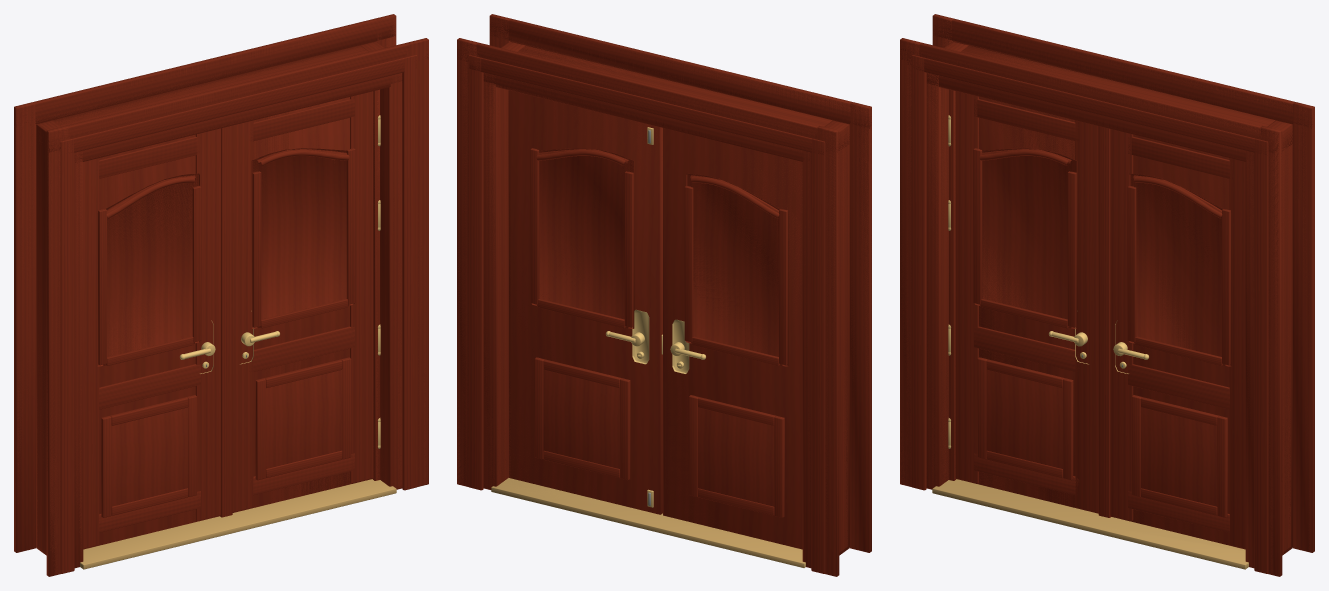
File: door_luxury.glb
3 views of the same model, side by side, from view 1: azimuth 30°, elevation 25°; view 2: azimuth 150°, elevation 25°; view 3: azimuth 330°, elevation 25° (orthographic).
Visible parts, largest first — view 1: MESH_LOD0_StaticFrameAssembly, MESH_LOD2_StaticFrameAssembly, MESH_LOD1_StaticFrameAssembly, MESH_LOD2_Right_UpperPanel_Exterior_CurvedField, MESH_LOD2_Left_UpperPanel_Exterior_CurvedField, MESH_LOD0_Left_ExteriorLatchStile, MESH_LOD0_Right_ExteriorHingeStile, MESH_LOD0_Left_UpperPanel_Exterior_CurvedField, MESH_LOD0_Right_ExteriorLatchStile, MESH_LOD1_Left_Slab, MESH_LOD0_Left_LowerPanel_Exterior_Field, MESH_LOD0_Right_LowerPanel_Exterior_Field (+29 smaller); view 2: MESH_LOD0_StaticFrameAssembly, MESH_LOD2_StaticFrameAssembly, MESH_LOD1_Left_Slab, MESH_LOD1_Right_Slab, MESH_LOD1_StaticFrameAssembly, MESH_LOD0_Right_Slab, MESH_LOD2_Right_UpperPanel_Interior_CurvedField, MESH_LOD2_Left_UpperPanel_Interior_CurvedField, MESH_LOD0_Left_Slab, MESH_LOD0_Left_UpperPanel_Interior_CurvedField, MESH_LOD0_Left_LowerPanel_Interior_Field, MESH_LOD0_Right_LowerPanel_Interior_Field (+22 smaller); view 3: MESH_LOD0_StaticFrameAssembly, MESH_LOD2_StaticFrameAssembly, MESH_LOD1_StaticFrameAssembly, MESH_LOD1_Left_UpperPanel_Exterior_CurvedField, MESH_LOD0_Right_UpperPanel_Exterior_CurvedField, MESH_LOD0_Left_ExteriorLatchStile, MESH_LOD0_Left_ExteriorHingeStile, MESH_LOD0_Right_ExteriorLatchStile, MESH_LOD2_Right_UpperPanel_Exterior_CurvedField, MESH_LOD2_Left_Slab, MESH_LOD0_Right_LowerPanel_Exterior_Field, MESH_LOD0_Left_LowerPanel_Exterior_Field (+29 smaller).
Part boxes in pixels (<box>): MESH_LOD0_StaticFrameAssembly: <box>14,14,428,574</box>; MESH_LOD2_StaticFrameAssembly: <box>14,14,428,576</box>; MESH_LOD1_StaticFrameAssembly: <box>36,41,422,574</box>; MESH_LOD2_Right_UpperPanel_Exterior_CurvedField: <box>251,148,346,328</box>; MESH_LOD2_Left_UpperPanel_Exterior_CurvedField: <box>97,173,198,366</box>; MESH_LOD0_Left_ExteriorLatchStile: <box>195,128,220,520</box>; MESH_LOD0_Right_ExteriorHingeStile: <box>350,91,373,483</box>; MESH_LOD0_Left_UpperPanel_Exterior_CurvedField: <box>98,173,199,366</box>; MESH_LOD0_Right_ExteriorLatchStile: <box>232,120,253,512</box>; MESH_LOD1_Left_Slab: <box>83,134,219,549</box>; MESH_LOD0_Left_LowerPanel_Exterior_Field: <box>111,407,188,506</box>; MESH_LOD0_Right_LowerPanel_Exterior_Field: <box>266,369,342,468</box>; MESH_LOD0_StaticFrameAssembly: <box>457,14,871,575</box>; MESH_LOD2_StaticFrameAssembly: <box>457,14,871,576</box>; MESH_LOD1_Left_Slab: <box>663,128,802,549</box>; MESH_LOD1_Right_Slab: <box>509,100,659,514</box>; MESH_LOD1_StaticFrameAssembly: <box>463,42,849,574</box>; MESH_LOD0_Right_Slab: <box>510,91,658,501</box>; MESH_LOD2_Right_UpperPanel_Interior_CurvedField: <box>539,148,634,328</box>; MESH_LOD2_Left_UpperPanel_Interior_CurvedField: <box>687,173,788,366</box>; MESH_LOD0_Left_Slab: <box>665,128,802,529</box>; MESH_LOD0_Left_UpperPanel_Interior_CurvedField: <box>686,173,787,366</box>; MESH_LOD0_Left_LowerPanel_Interior_Field: <box>697,407,774,506</box>; MESH_LOD0_Right_LowerPanel_Interior_Field: <box>543,369,619,468</box>; MESH_LOD0_StaticFrameAssembly: <box>900,14,1314,574</box>; MESH_LOD2_StaticFrameAssembly: <box>900,14,1314,576</box>; MESH_LOD1_StaticFrameAssembly: <box>906,42,1292,574</box>; MESH_LOD1_Left_UpperPanel_Exterior_CurvedField: <box>982,148,1076,328</box>; MESH_LOD0_Right_UpperPanel_Exterior_CurvedField: <box>1129,173,1230,366</box>; MESH_LOD0_Left_ExteriorLatchStile: <box>1075,120,1098,512</box>; MESH_LOD0_Left_ExteriorHingeStile: <box>955,91,978,483</box>; MESH_LOD0_Right_ExteriorLatchStile: <box>1110,129,1133,520</box>; MESH_LOD2_Right_UpperPanel_Exterior_CurvedField: <box>1130,173,1231,366</box>; MESH_LOD2_Left_Slab: <box>959,97,1097,513</box>; MESH_LOD0_Right_LowerPanel_Exterior_Field: <box>1140,407,1217,506</box>; MESH_LOD0_Left_LowerPanel_Exterior_Field: <box>986,369,1062,468</box>.
Size of what is drawn, in the model's own units: 2.33 by 2.6 by 0.3875.
Materials: 5 (1 with a texture image).
